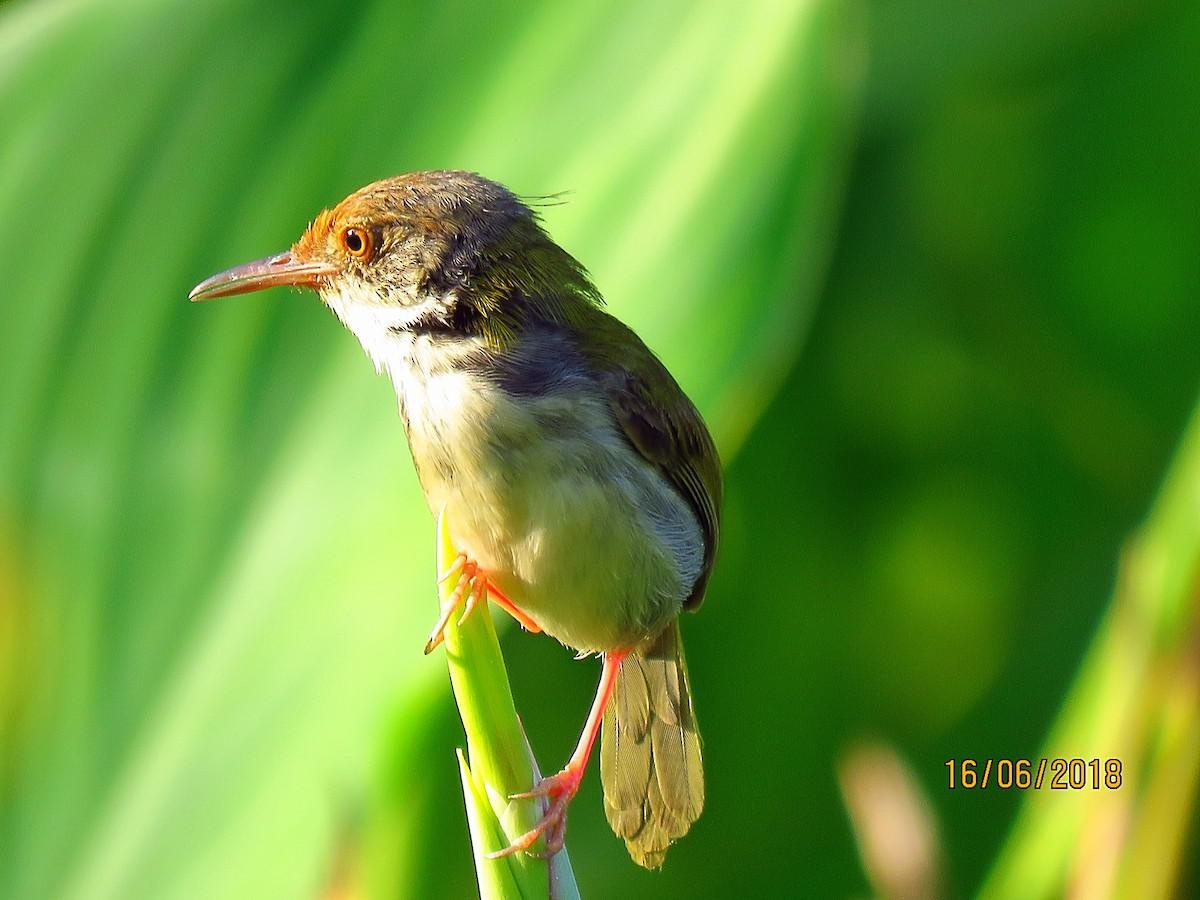tailorbird: (148, 113, 756, 833)
